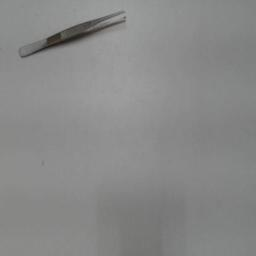Gillies Toothed Dissector: (14, 6, 130, 62)
